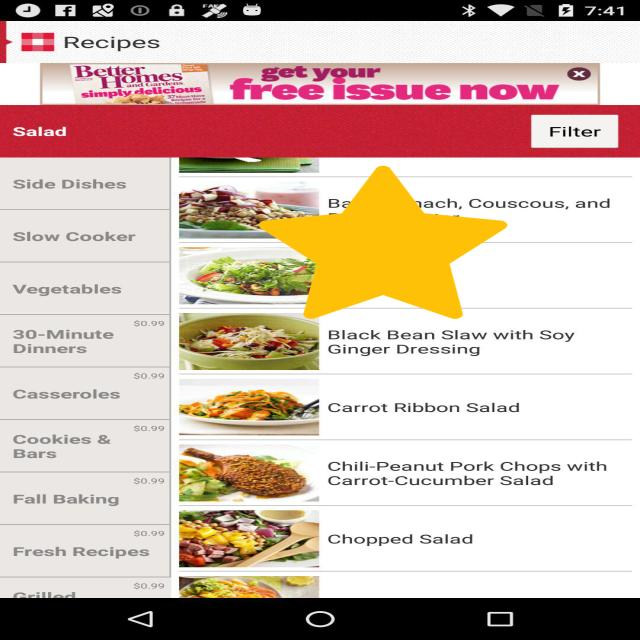forced continuity: (259, 166, 507, 319)
